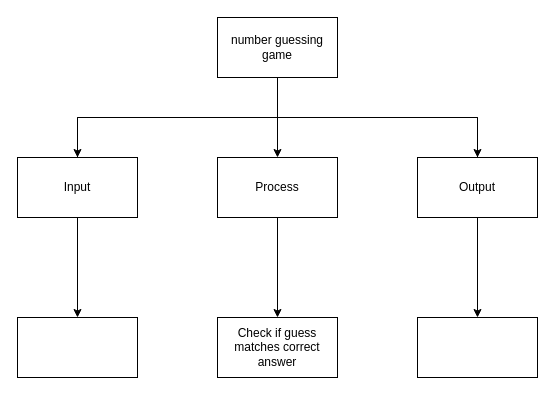
This 555x395 diagram has some shape labels left out. The shapes that lost their labels are listed below. From the top down, each one's centre as x and y in pixels, then its label:
At pixel 77 347: "Get user guess".
At pixel 477 347: "Show user message whether their guess is right or wrong".
